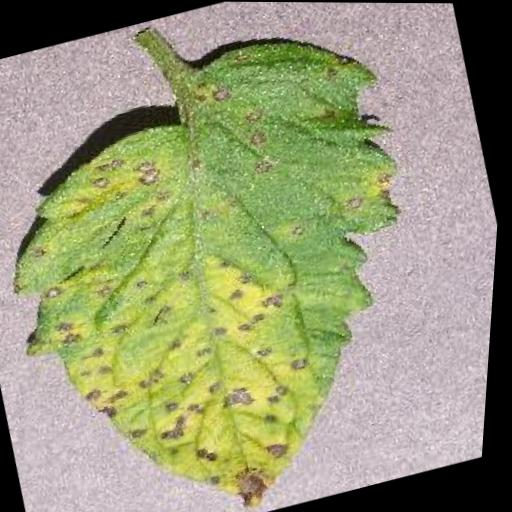Septoria: (0, 6, 487, 512)
